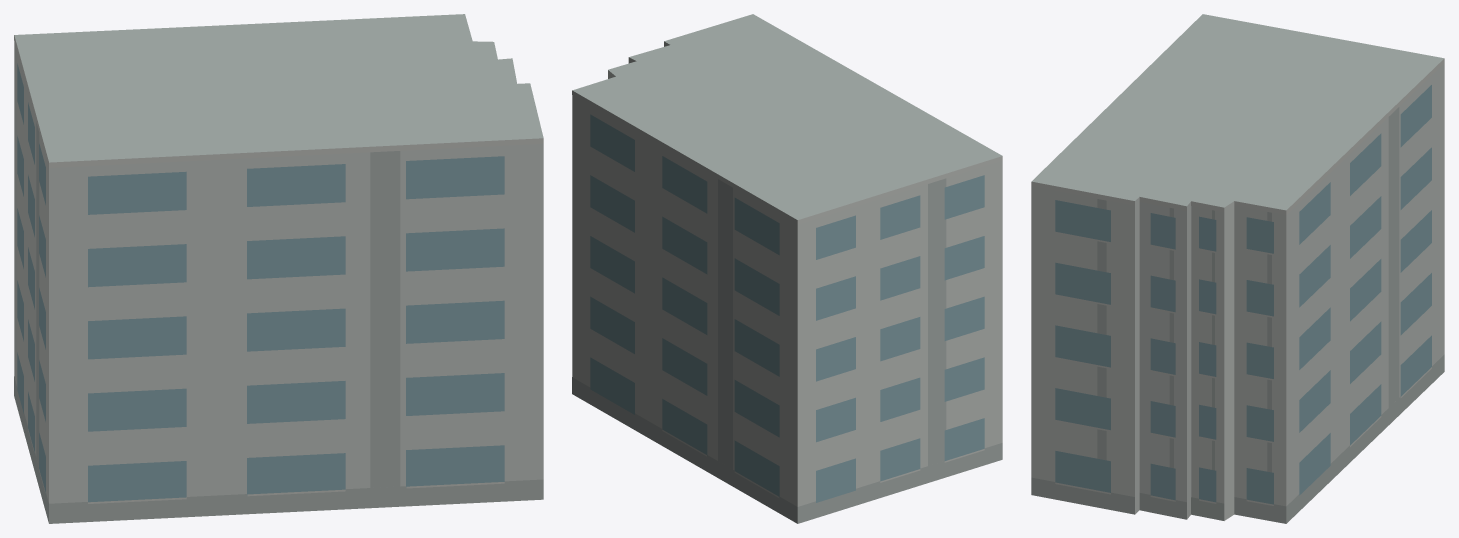
The model's file is survey-upis-32889813.glb.
3 renders of one model, left to right at view 1: azimuth 30°, elevation 25°; view 2: azimuth 150°, elevation 25°; view 3: azimuth 270°, elevation 25°, orthographic. The views are drawn at different scales.
Parts seen in each view (by area): view 1: survey-upis-32889813.tmp; view 2: survey-upis-32889813.tmp; view 3: survey-upis-32889813.tmp.
Part boxes in pixels (left/top/right/bottom): survey-upis-32889813.tmp: left=14, top=14, right=543, bottom=523; survey-upis-32889813.tmp: left=572, top=14, right=1002, bottom=523; survey-upis-32889813.tmp: left=1031, top=14, right=1444, bottom=523.
Bounding box in the file's own units: 21.25 × 15.8 × 18.88.
